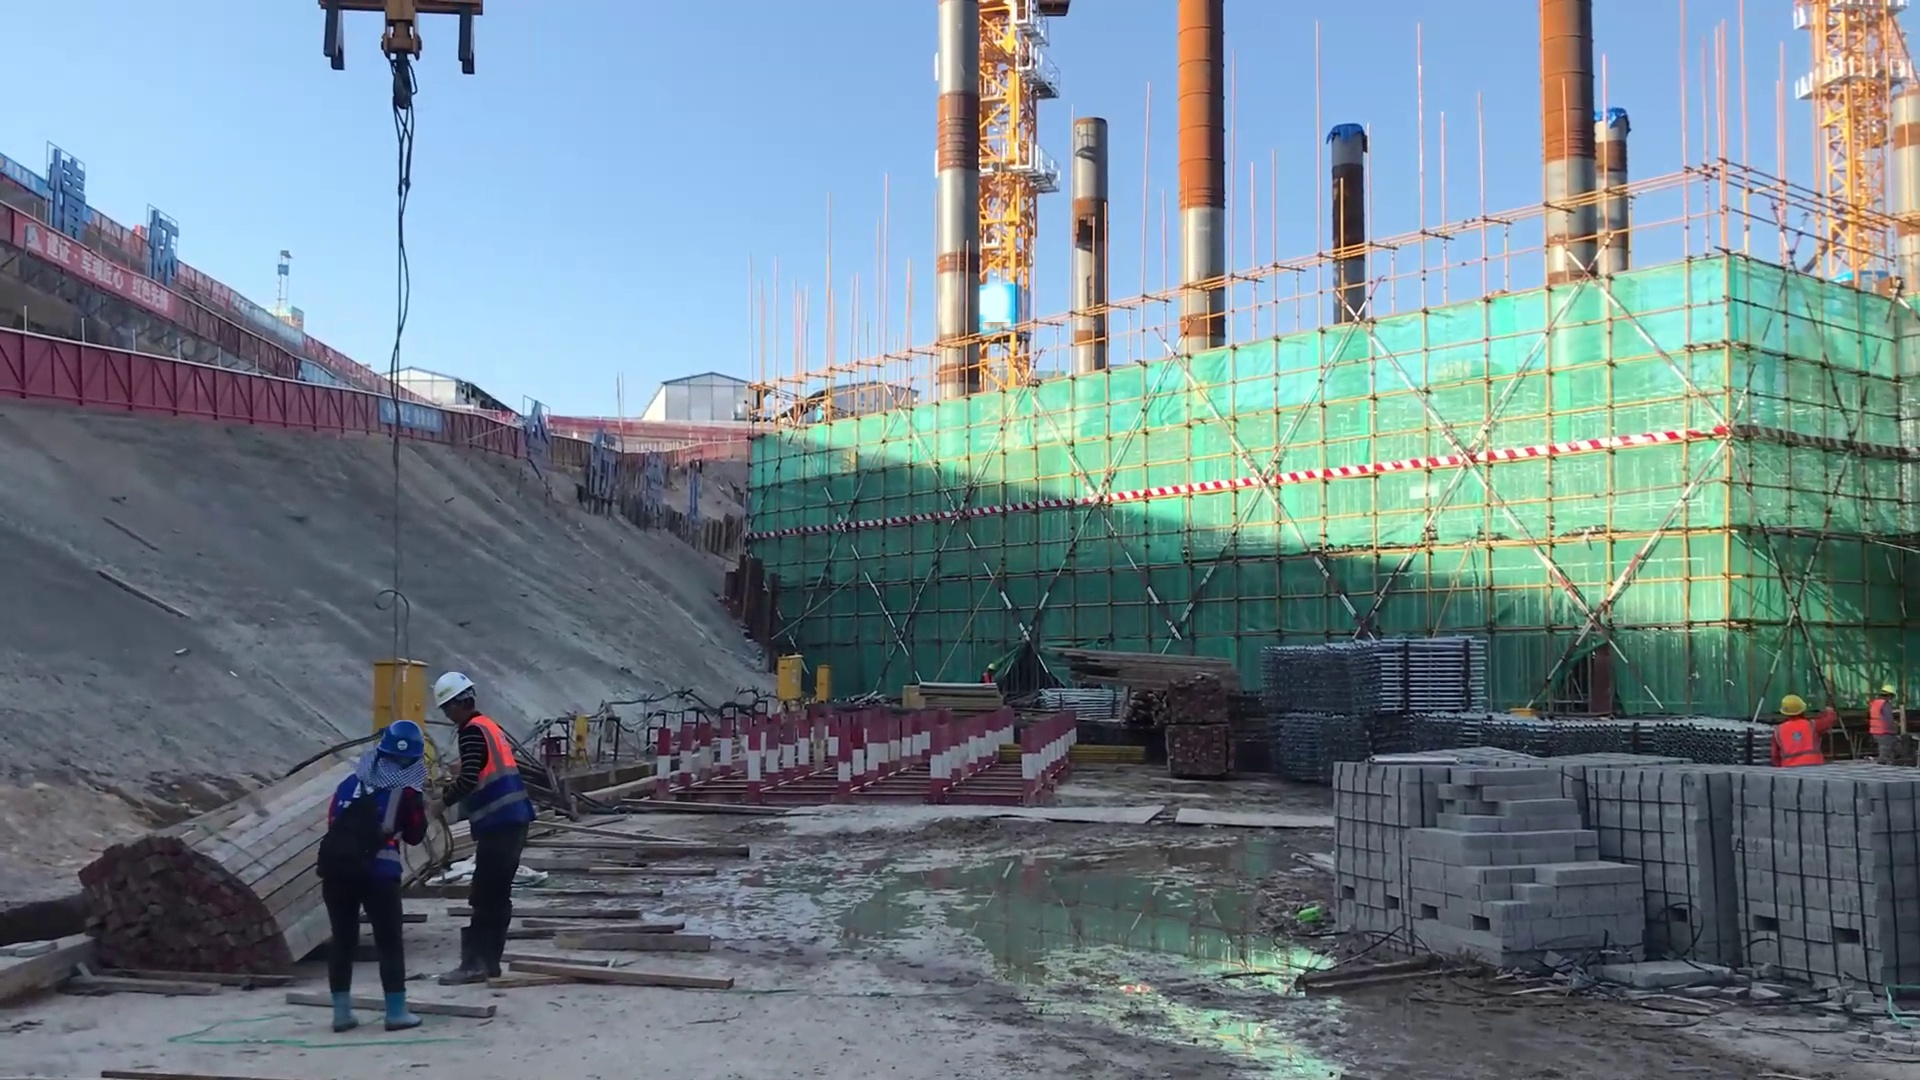brick: (1308, 759, 1895, 997)
ebox: (363, 629, 434, 727), (772, 652, 801, 699), (810, 663, 830, 700)
fence: (7, 329, 260, 438), (255, 375, 384, 435)
helmet: (376, 717, 418, 765), (429, 675, 477, 712), (1773, 690, 1802, 719), (986, 662, 997, 673)
hook: (310, 1, 481, 76)
person: (319, 710, 438, 1034), (422, 660, 534, 990), (1766, 691, 1841, 780), (1859, 679, 1907, 769), (974, 661, 998, 685)
scaffold: (1250, 642, 1485, 713), (1248, 709, 1346, 775)
vest: (448, 716, 512, 785), (1771, 719, 1816, 764), (1867, 697, 1897, 737)
wood: (36, 760, 321, 1000), (1046, 645, 1230, 702)
